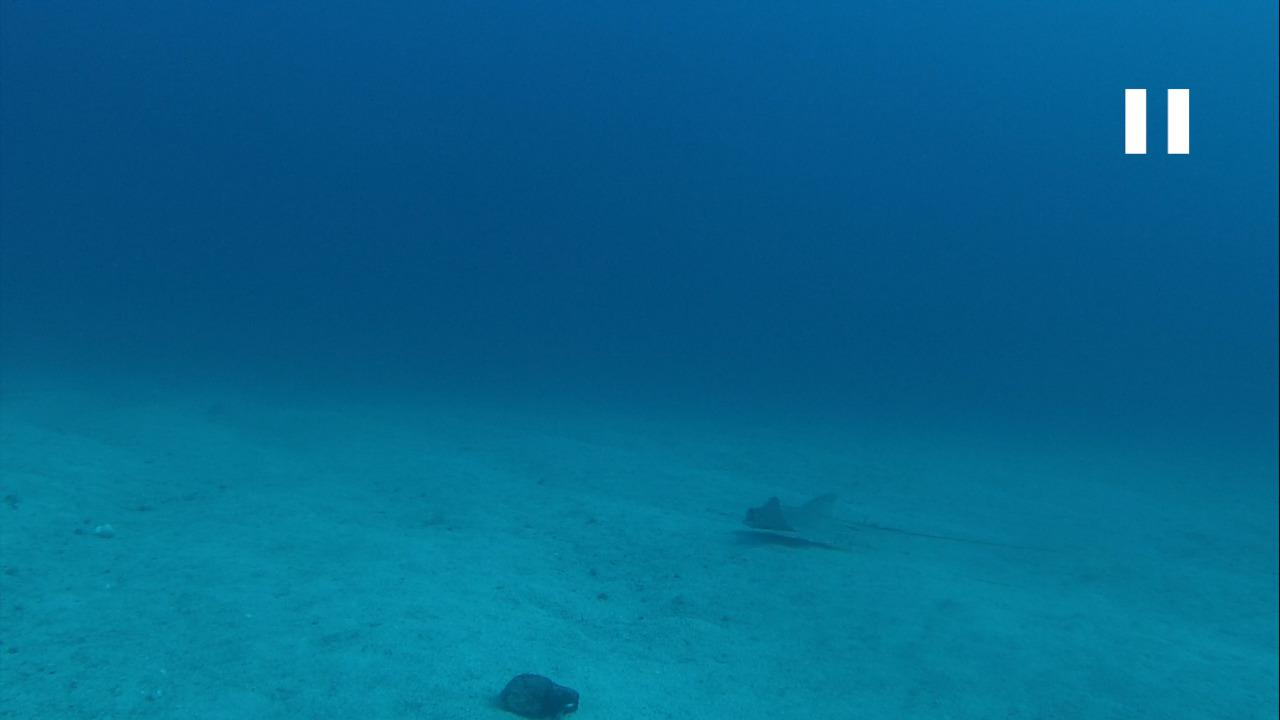myliobatis: (728, 484, 1025, 565)
